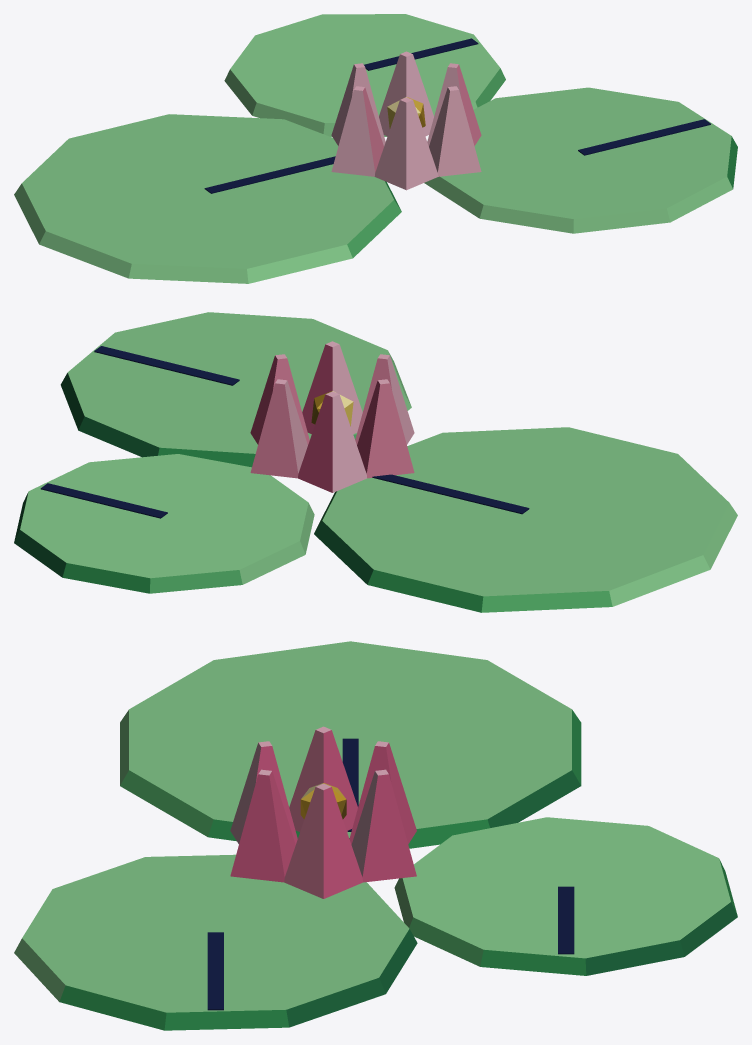
File: lily_pads.glb
3 views of the same model, one above another, from view 1: azimuth 30°, elevation 25°; view 2: azimuth 150°, elevation 25°; view 3: azimuth 270°, elevation 25° (orthographic). The views are drawn at different scales.
Parts seen in each view (by area): view 1: lily_pads; view 2: lily_pads; view 3: lily_pads.
Boxes of the visible parts, box(x1,y1,x2,y2) form: lily_pads: box(14, 14, 737, 283); lily_pads: box(14, 312, 737, 612); lily_pads: box(14, 641, 737, 1030).
Bounding box in the file's own units: 0.6651 × 0.09 × 0.5372.
